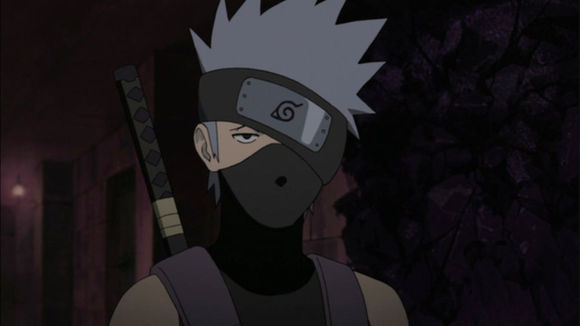kakashi: (193, 65, 356, 238)
